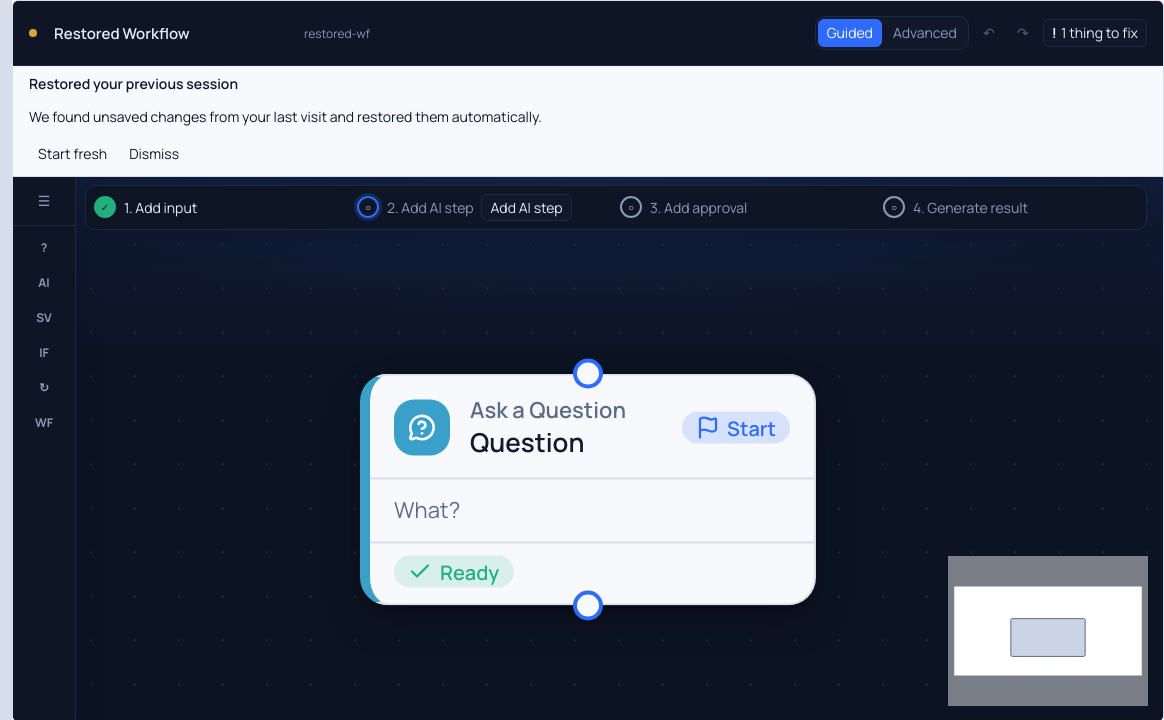
it: workflow-builder draft persistence › default localStorage adapter › "Start fresh" clears the notice, the saved draft, and resets the canvas
This screenshot has width=1164, height=720.
Expected: the message with test id "draft-restored-banner" is shown, x1=13 y1=66 x2=1163 y2=176
Expected: the field named "Workflow name" holds "Restored Workflow", x1=45 y1=18 x2=287 y2=48
Click the button with test id "draft-restored-start-fresh": (73, 154) x1=29 y1=140 x2=116 y2=168
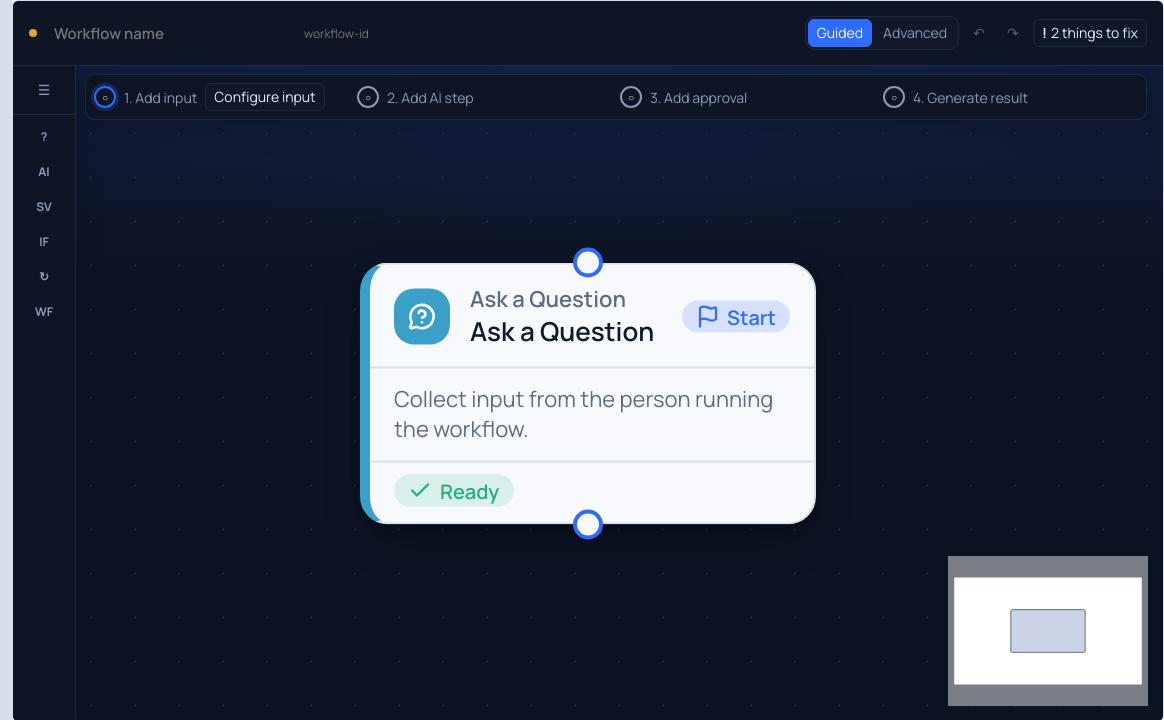
Expected: the message with test id "draft-restored-banner" is gone
Expected: the field labelled "Workflow name" is empty, x1=45 y1=18 x2=287 y2=48
